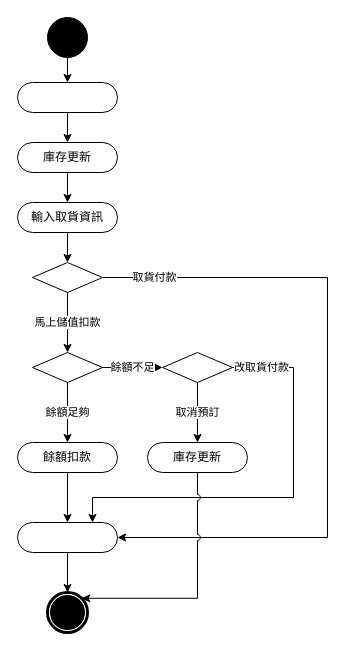
Some shapes in this 353 by 650 pixel diagram are drawn without their labels. Each missing label, with the centre of its shape:
系統儲存: (x=67, y=537)
點選送出購物車: (x=67, y=97)
